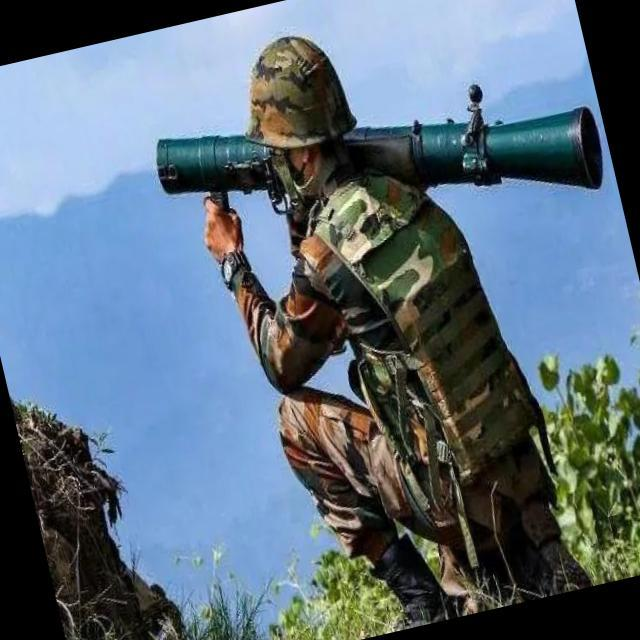rocket: (151, 28, 610, 286)
